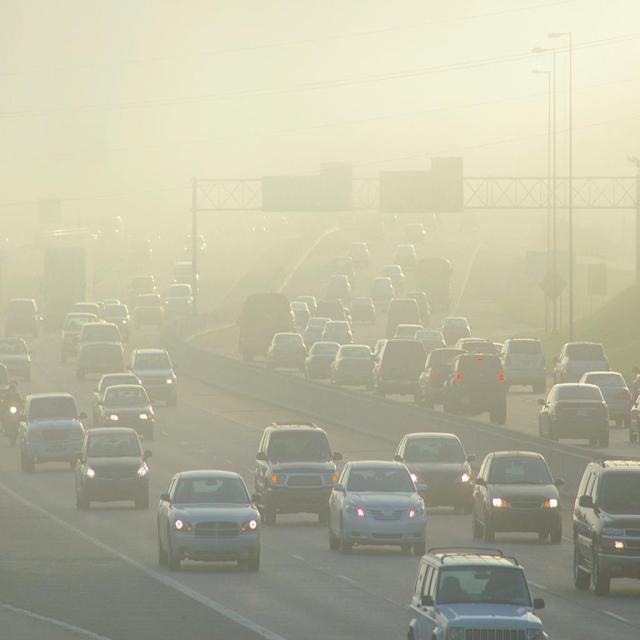Car: (407, 545, 549, 640), (158, 470, 261, 572), (571, 456, 640, 598), (329, 460, 426, 558), (256, 420, 342, 523), (471, 451, 564, 545), (394, 432, 475, 514), (74, 428, 152, 509), (18, 393, 88, 474), (538, 382, 610, 448), (444, 353, 508, 426), (370, 337, 428, 401), (579, 368, 633, 430), (97, 383, 155, 440), (419, 346, 469, 412), (125, 347, 178, 406), (76, 320, 127, 381), (498, 335, 546, 393), (92, 373, 143, 423), (554, 341, 612, 384), (330, 344, 376, 392), (58, 311, 99, 364), (382, 296, 422, 338), (267, 332, 309, 371), (5, 296, 42, 339), (304, 341, 343, 380), (0, 338, 33, 380), (133, 291, 166, 330), (100, 302, 132, 341), (163, 282, 195, 321), (404, 290, 434, 330), (324, 255, 358, 287), (165, 262, 201, 291), (367, 276, 396, 310), (438, 316, 472, 344), (127, 274, 158, 304), (346, 296, 378, 324), (314, 296, 346, 324), (321, 320, 356, 345), (322, 273, 353, 301), (126, 237, 154, 268), (378, 264, 406, 294), (304, 316, 332, 344), (414, 328, 449, 350), (181, 233, 208, 261), (392, 243, 418, 271), (290, 299, 314, 327), (346, 242, 370, 269), (629, 389, 640, 444), (393, 322, 425, 340), (295, 293, 318, 315)
Cycle: (0, 397, 23, 446)
Truck: (237, 290, 298, 362), (40, 244, 86, 333), (414, 254, 454, 312)
